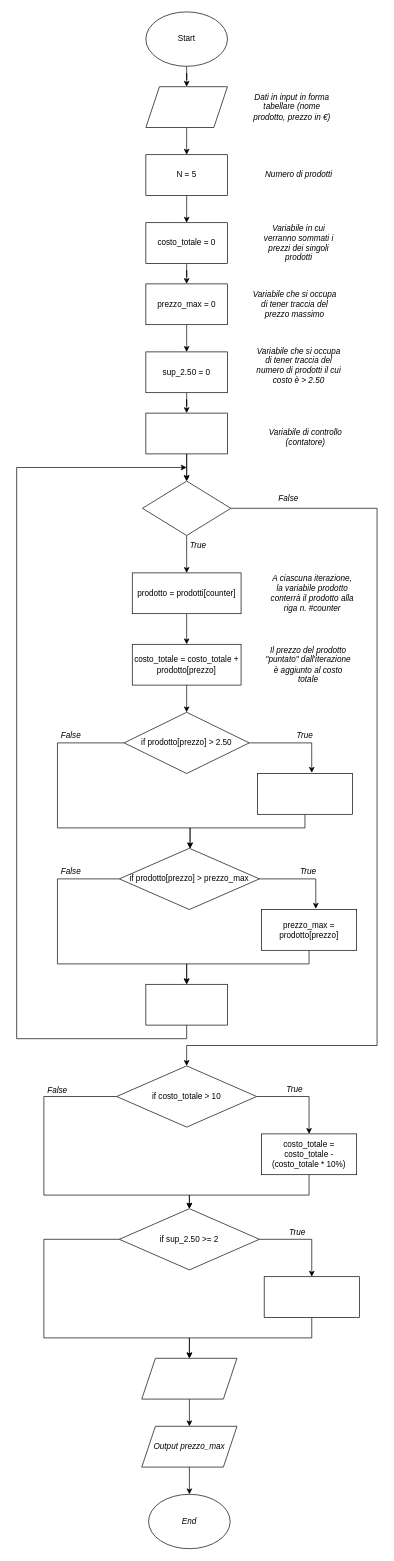
The diagram is 394 pixels wide and 1561 high, and some of its shapes have lost their labels. Here are the shapes that lost their labels. From the top down, the box of each, then its label:
(145, 86, 227, 128): Input prodotti
(145, 412, 227, 454): couter = 0
(142, 480, 231, 536): While counter < N
(257, 773, 353, 814): sup_2.50 = sup_2.50 + 1
(145, 984, 227, 1025): counter = counter + 1
(264, 1276, 359, 1318): costo_totale = costo_totale - (costo_totale * 2%)
(141, 1358, 237, 1399): Output costo_totale
